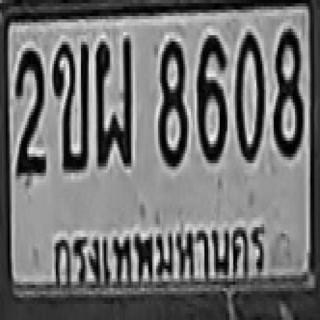A02: (52, 38, 87, 170)
A28: (94, 35, 131, 166)
N00: (233, 29, 264, 160)
N02: (14, 48, 44, 176)
N06: (196, 32, 226, 160)
N08: (272, 25, 303, 154), (157, 38, 186, 163)
P04: (46, 222, 271, 298)
